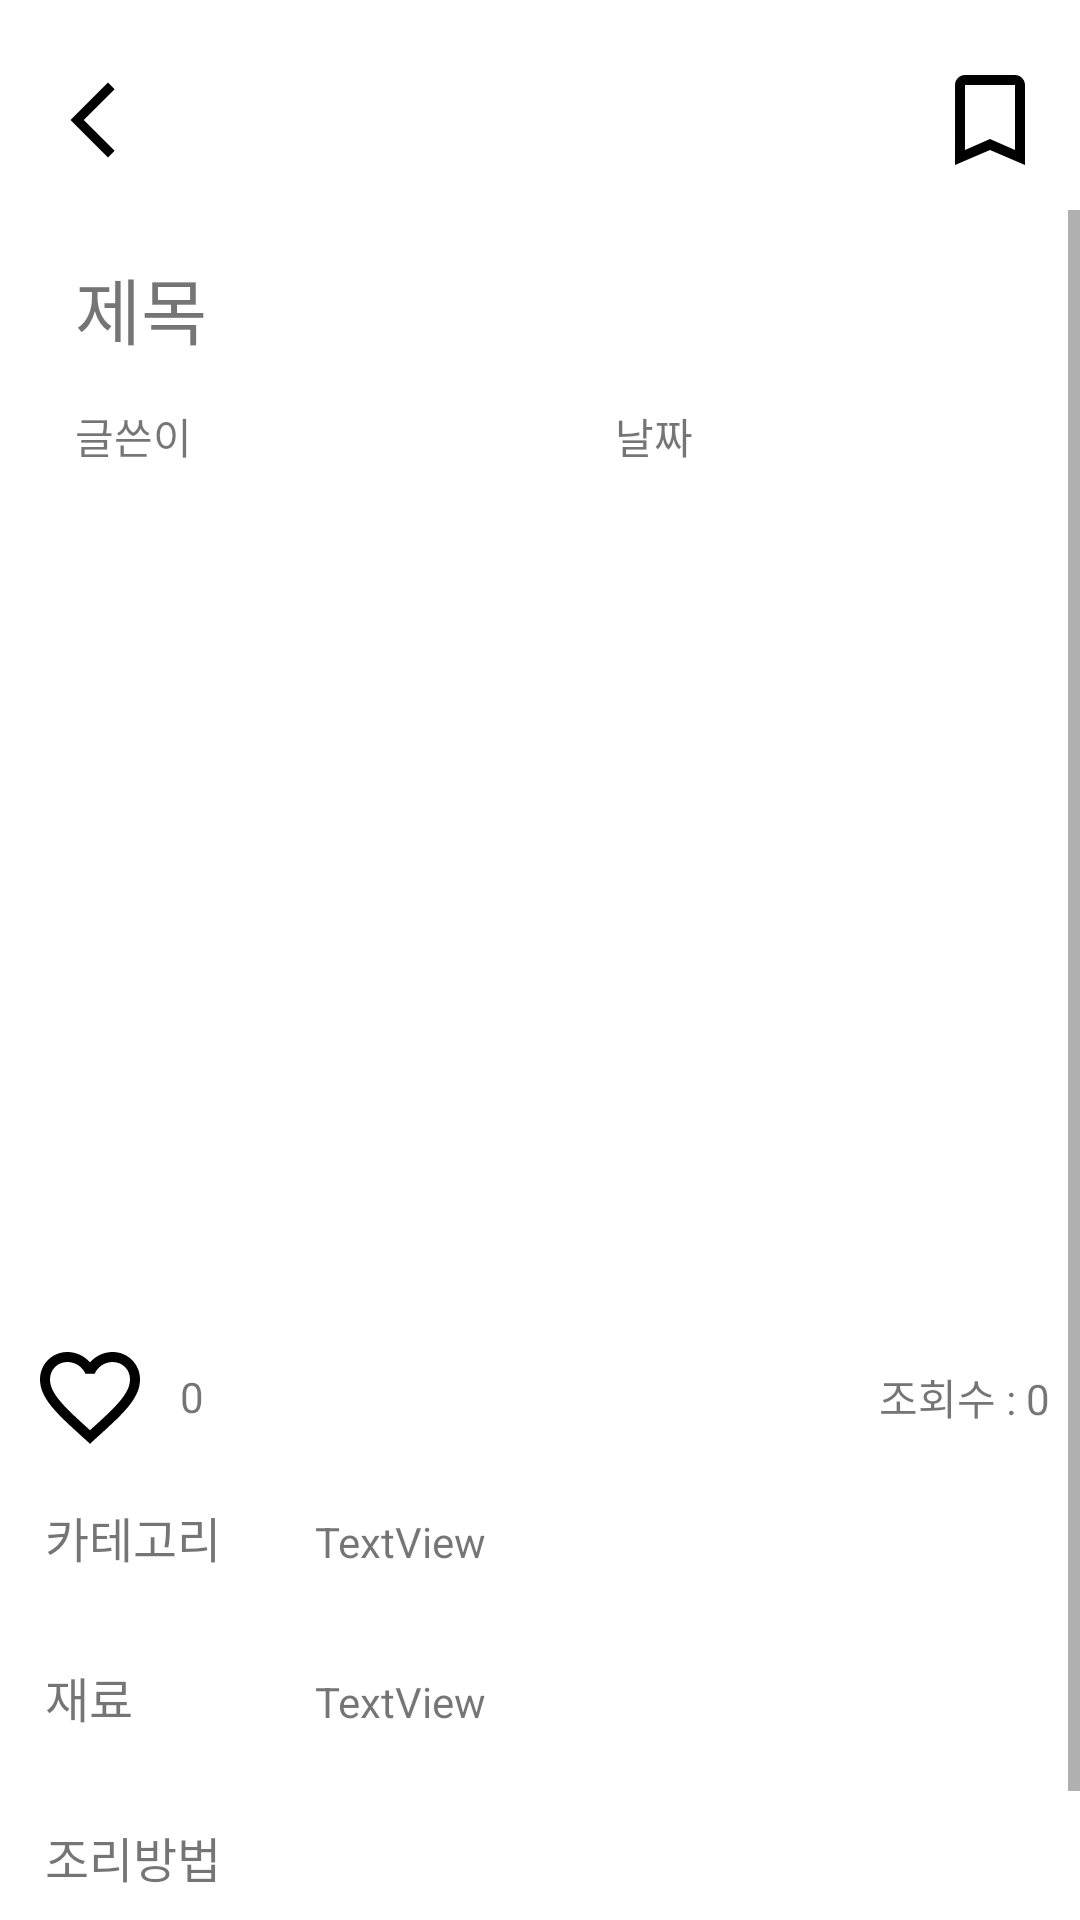

Where icons sit on this 1080x1920 app screen, as (x1, y1, x2, y2):
back: (70, 82, 115, 158)
bookmark border: (955, 75, 1025, 165)
favorite border: (40, 1352, 140, 1444)
